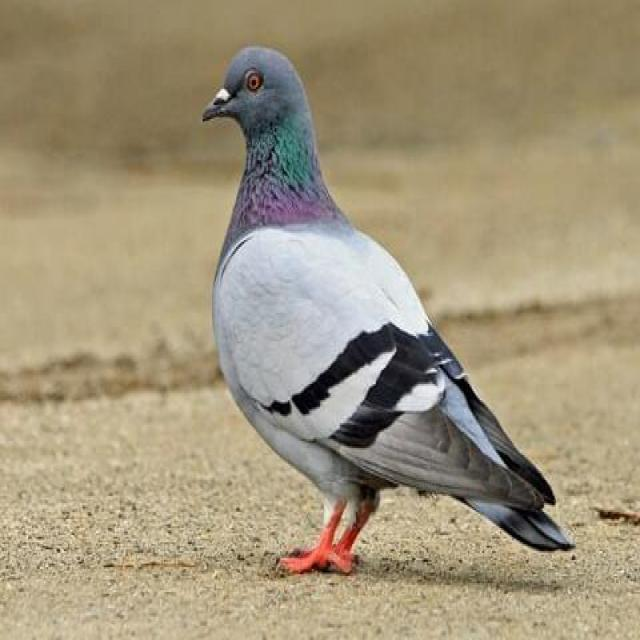Pigeon: (192, 28, 578, 580)
